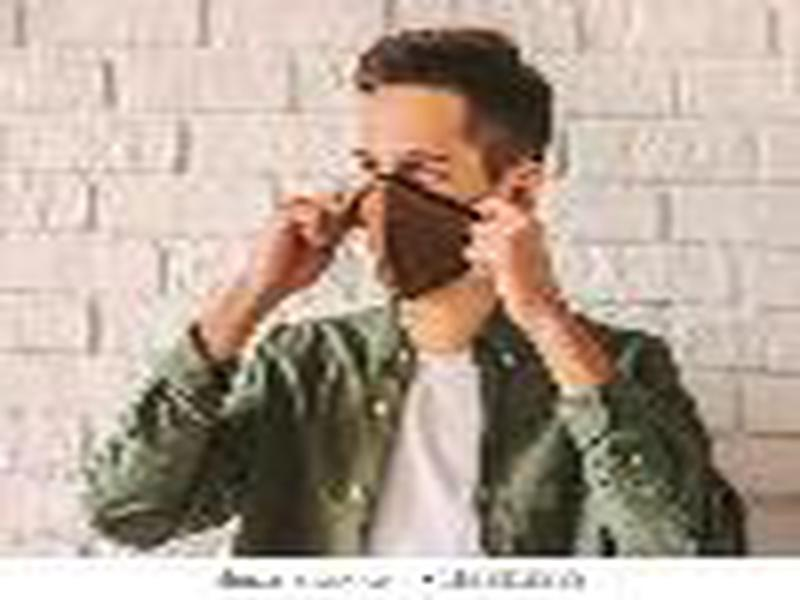with_mask: (344, 23, 547, 300)
